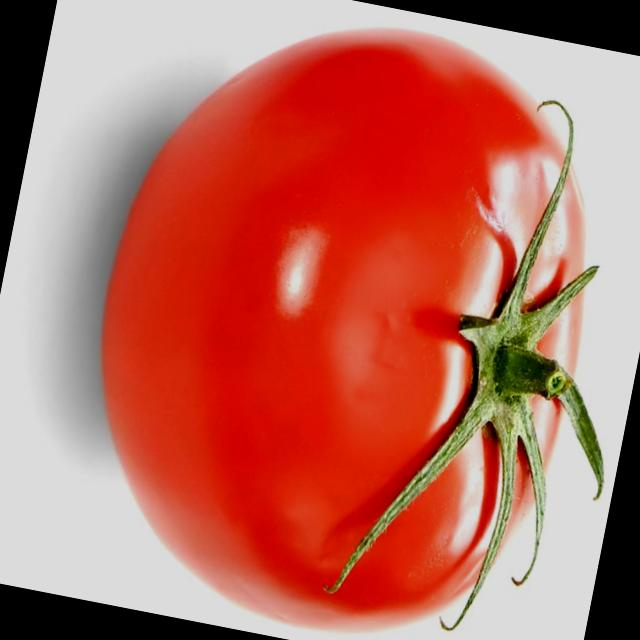tomato: (44, 0, 640, 640)
